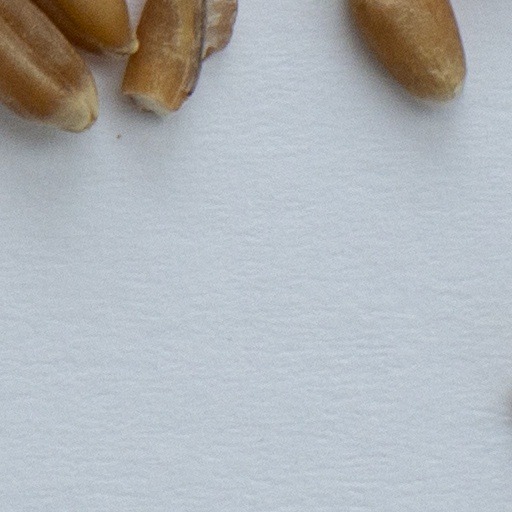Wheat-grain-poly: (348, 0, 466, 101)
